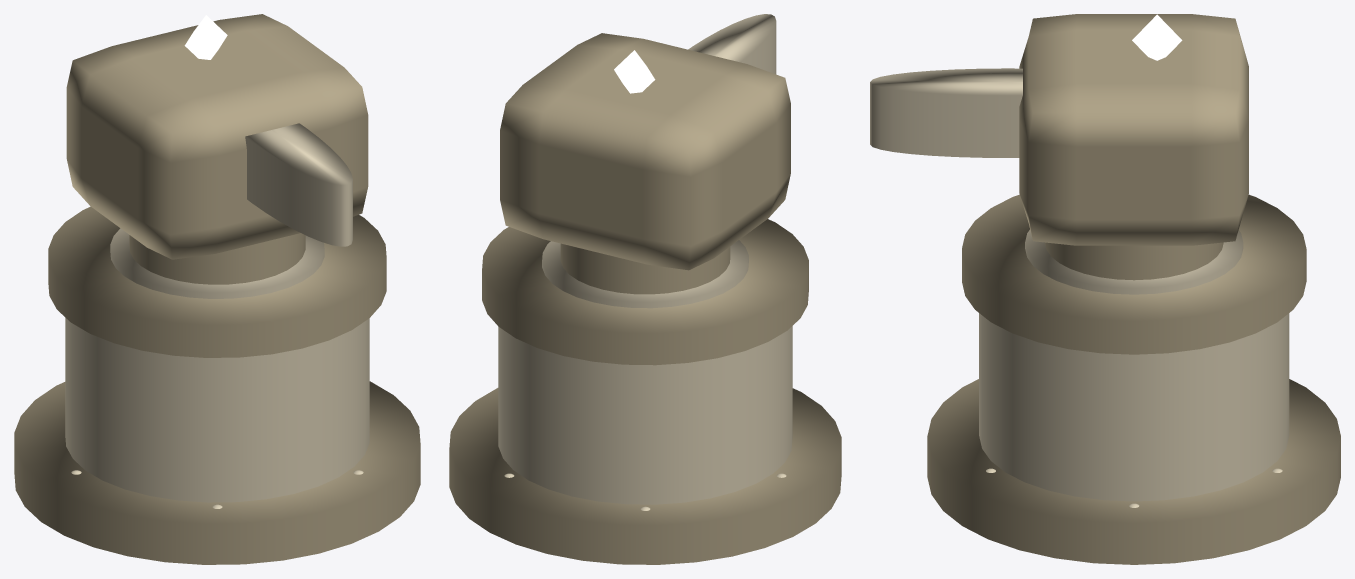
The model's file is cannon_l5.glb.
3 renders of one model, left to right at view 1: azimuth 30°, elevation 25°; view 2: azimuth 150°, elevation 25°; view 3: azimuth 270°, elevation 25°, orthographic. The views are drawn at different scales.
Parts seen in each view (by area): view 1: shield, base, footing, baseCollar, barrel, shaft, lowerTrim, spinCrystal; view 2: shield, base, footing, baseCollar, shaft, lowerTrim, barrel, spinCrystal; view 3: shield, base, footing, baseCollar, barrel, shaft, lowerTrim, spinCrystal.
Part boxes in pixels (bbox=[...]): shield: bbox=[66, 14, 368, 259]; base: bbox=[65, 318, 369, 502]; footing: bbox=[14, 381, 420, 564]; baseCollar: bbox=[48, 206, 386, 357]; barrel: bbox=[245, 123, 352, 246]; shaft: bbox=[129, 233, 305, 284]; lowerTrim: bbox=[110, 228, 324, 298]; spinCrystal: bbox=[184, 15, 227, 59]; shield: bbox=[500, 33, 790, 270]; base: bbox=[498, 326, 792, 504]; footing: bbox=[449, 388, 841, 564]; baseCollar: bbox=[482, 219, 808, 365]; shaft: bbox=[560, 243, 730, 294]; lowerTrim: bbox=[542, 240, 748, 308]; barrel: bbox=[688, 14, 776, 74]; spinCrystal: bbox=[614, 50, 655, 93]; shield: bbox=[1019, 14, 1248, 245]; base: bbox=[979, 313, 1289, 501]; footing: bbox=[927, 379, 1340, 564]; baseCollar: bbox=[962, 194, 1306, 354]; barrel: bbox=[870, 68, 1022, 157]; shaft: bbox=[1044, 242, 1223, 280]; lowerTrim: bbox=[1025, 229, 1243, 294]; spinCrystal: bbox=[1132, 14, 1182, 60].
Size of the model in its own units: 1.8 by 2.23 by 2.05.
